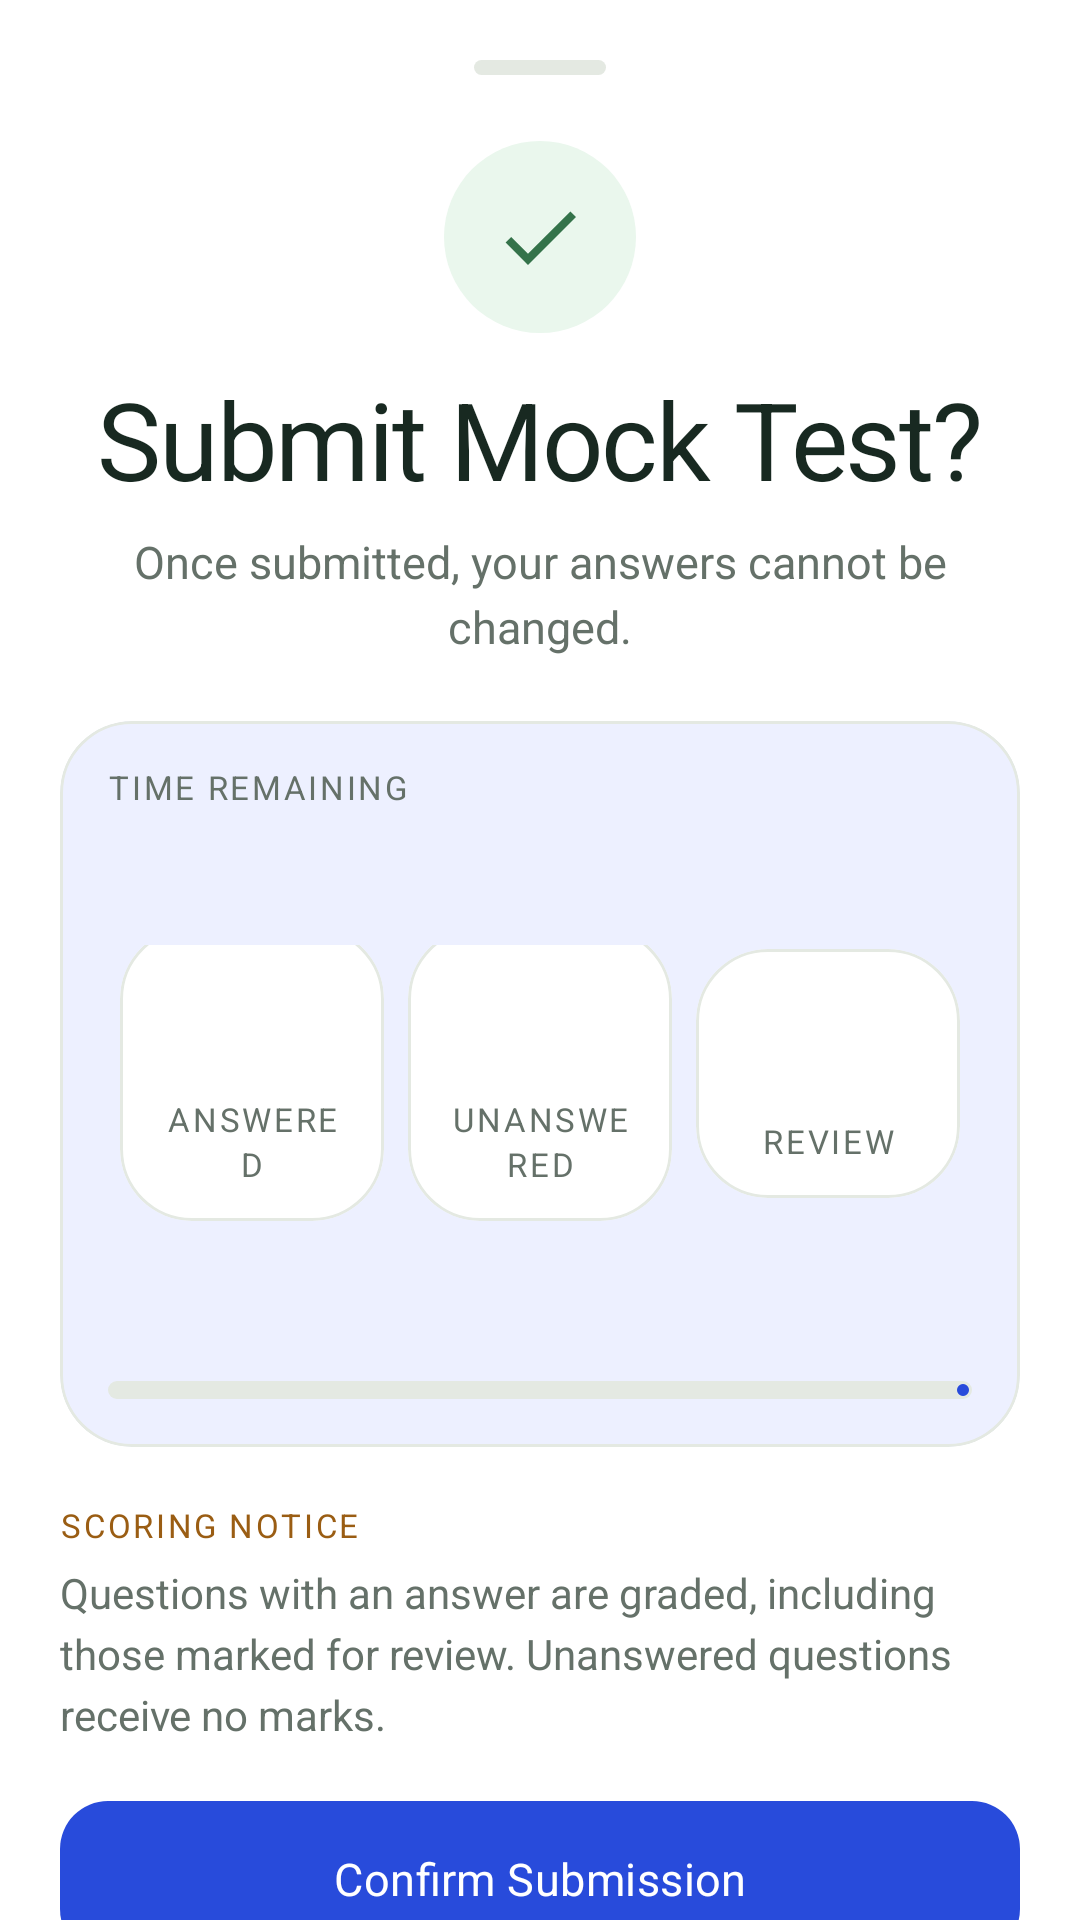

Icon bounding boxes for this 1080 × 1920 phone screenshot, format (x1, y1, x2, y2):
atelier check: (444, 141, 636, 333)
